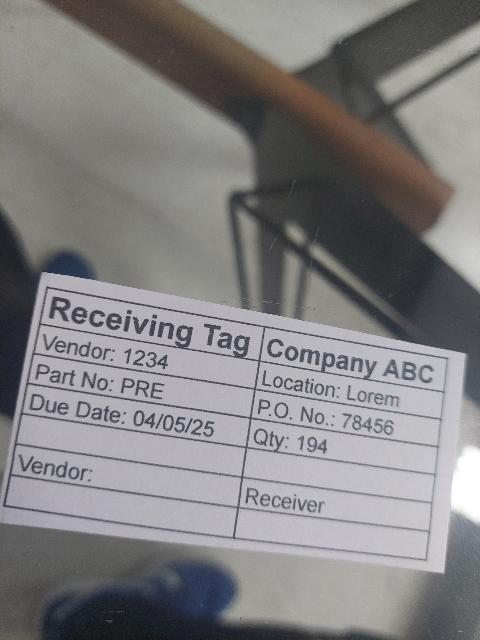PO no: (252, 390, 442, 451)
part no: (29, 355, 256, 419)
qty: (244, 416, 438, 476)
tags: (0, 273, 466, 578)
